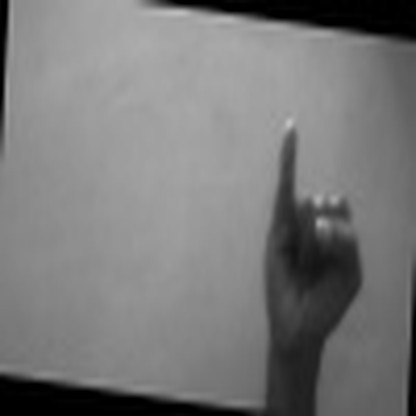i: (254, 109, 374, 364)
